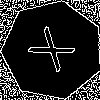X: (27, 25, 85, 80)
